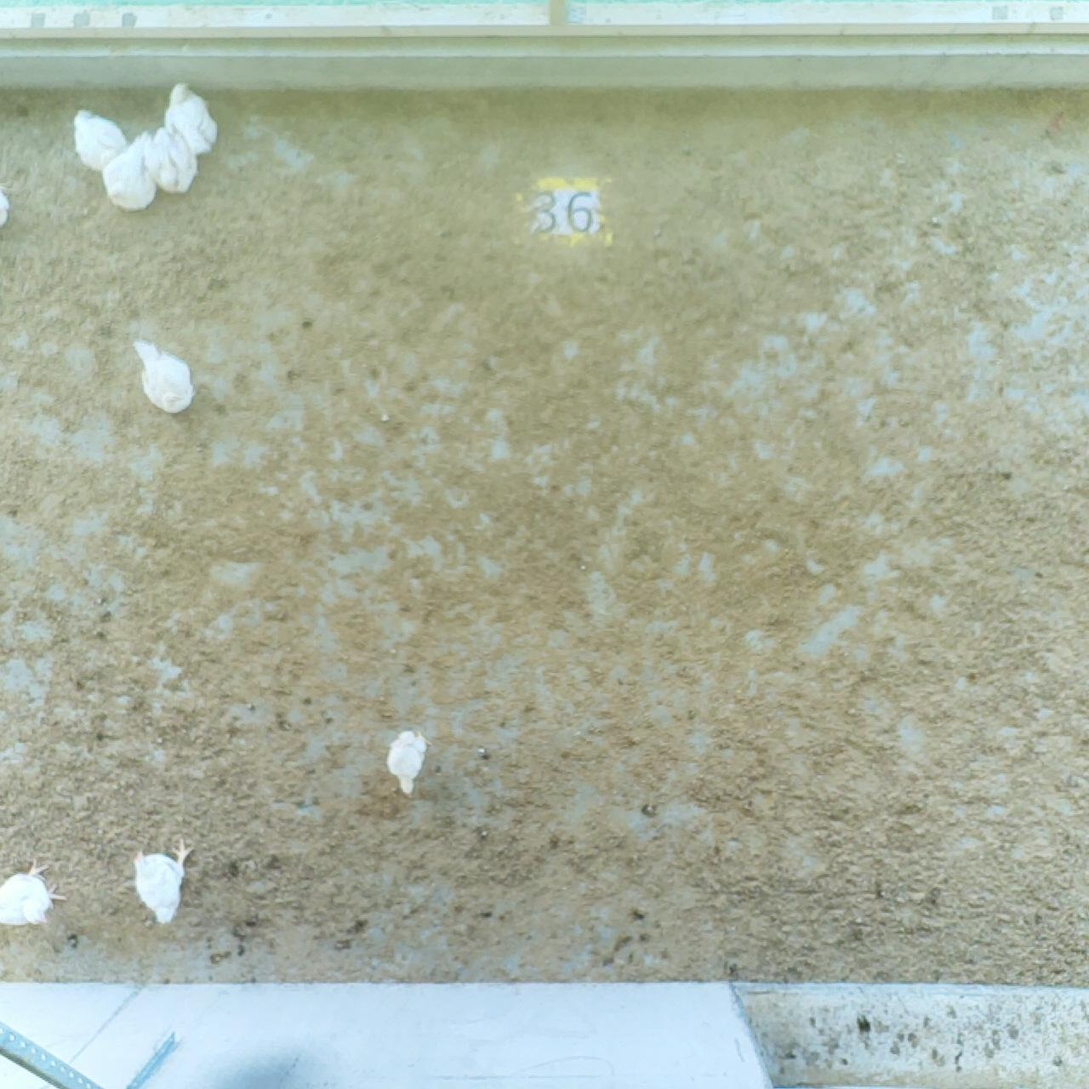chicken: (134, 840, 193, 922), (101, 129, 157, 211), (134, 341, 194, 415), (1, 859, 67, 926), (140, 126, 198, 195), (164, 83, 217, 154), (73, 110, 128, 168), (389, 729, 431, 797), (1, 194, 10, 233)
